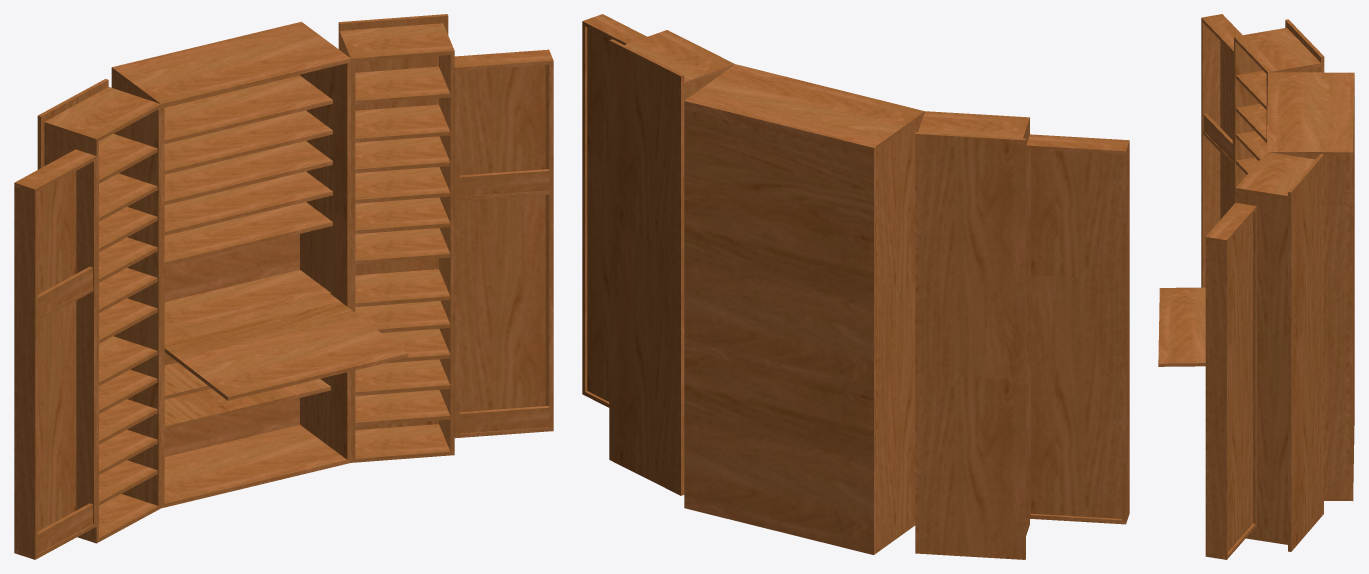
File: modelM.glb
3 renders of one model, left to right at view 1: azimuth 30°, elevation 25°; view 2: azimuth 150°, elevation 25°; view 3: azimuth 270°, elevation 25°, orthographic. The views are drawn at different scales.
Parts seen in each view (by area): view 1: м; view 2: м; view 3: м.
Part boxes in pixels (x1=…): м: x1=14, y1=14, x2=553, y2=559; м: x1=582, y1=14, x2=1129, y2=559; м: x1=1158, y1=14, x2=1354, y2=559.
Size of the model in its own units: 1.58 by 1.17 by 0.5795.
Materials: 5 (5 with a texture image).
